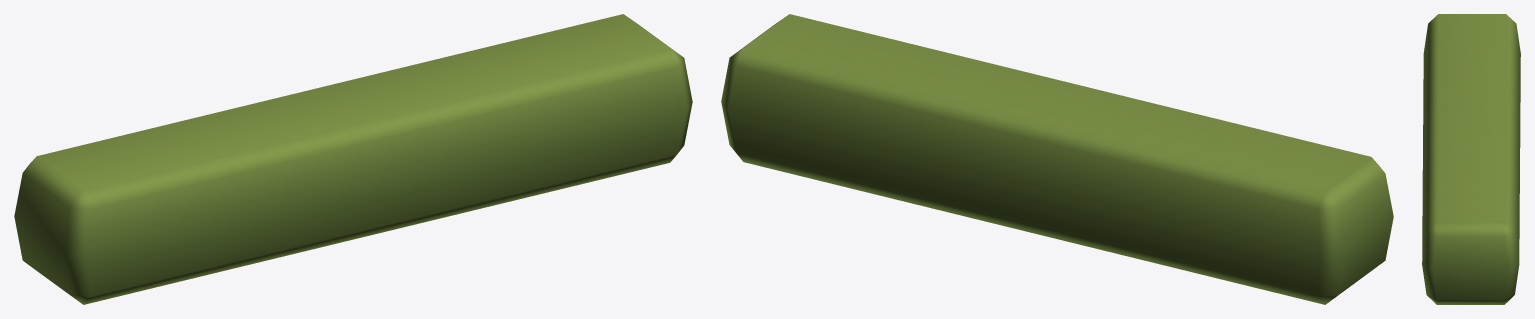
The model's file is hedge_roadside.fbx.
3 renders of one model, left to right at view 1: azimuth 30°, elevation 25°; view 2: azimuth 150°, elevation 25°; view 3: azimuth 270°, elevation 25°, orthographic. The views are drawn at different scales.
Parts seen in each view (by area): view 1: hedge_roadside; view 2: hedge_roadside; view 3: hedge_roadside.
Part boxes in pixels (left/top/right/bottom): hedge_roadside: left=14, top=14, right=692, bottom=304; hedge_roadside: left=721, top=14, right=1393, bottom=304; hedge_roadside: left=1422, top=14, right=1520, bottom=304.
Bounding box in the file's own units: 409 × 71.56 × 76.87.
